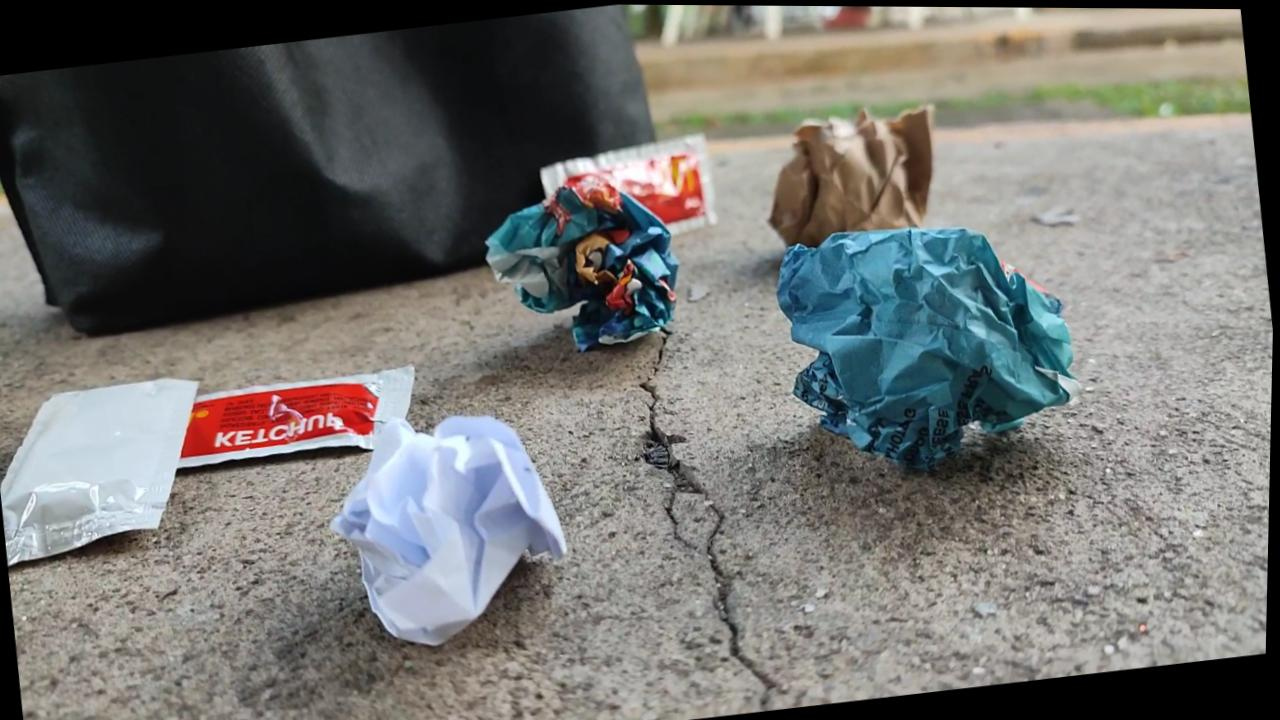paper: (778, 228, 1079, 467), (332, 417, 565, 645), (487, 165, 702, 350), (3, 378, 196, 563), (770, 106, 931, 246)
